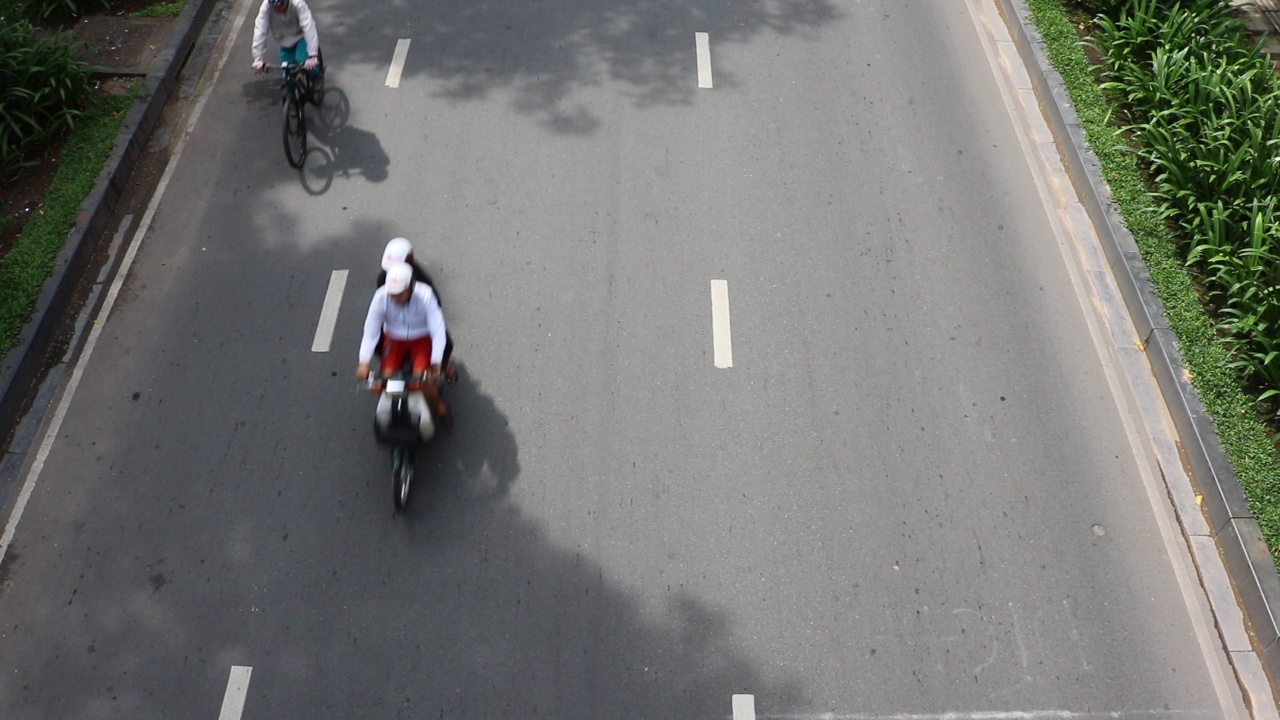bicycle: (277, 57, 349, 195)
motorcycle: (368, 379, 440, 515)
